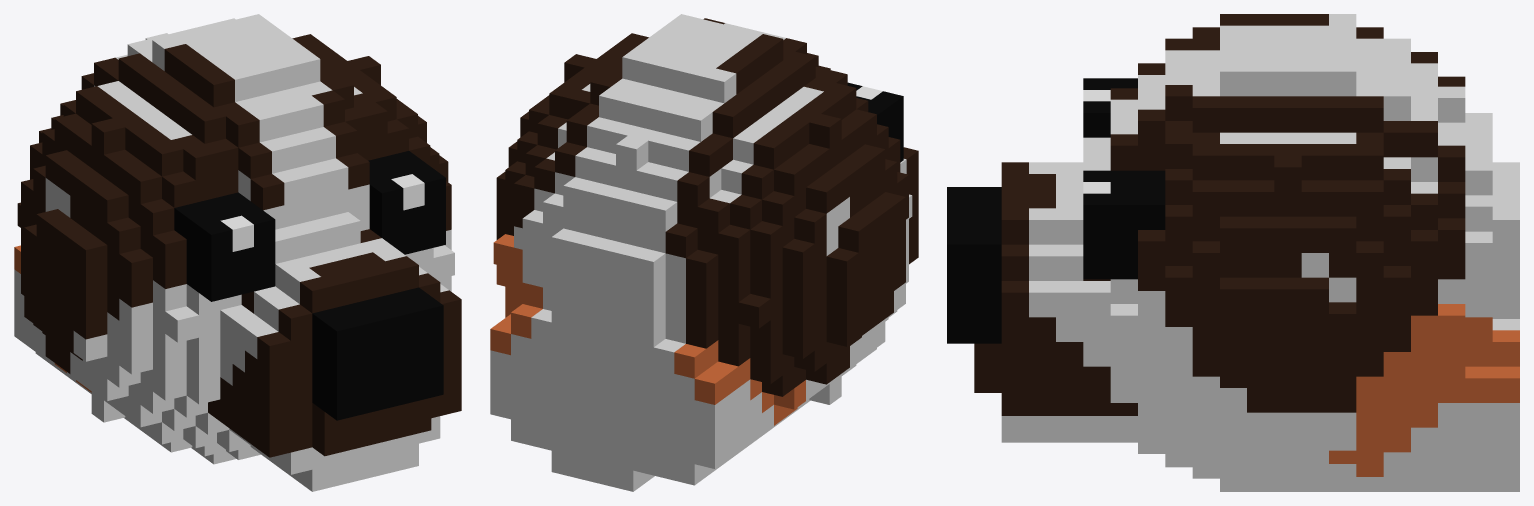
Rendered from Bernard_Head.obj.
3 renders of one model, left to right at view 1: azimuth 30°, elevation 25°; view 2: azimuth 150°, elevation 25°; view 3: azimuth 270°, elevation 25°, orthographic. The views are drawn at different scales.
Visible parts, largest first — view 1: Bernard; view 2: Bernard; view 3: Bernard.
Part boxes in pixels (x1=…): Bernard: x1=14, y1=14, x2=461, y2=491; Bernard: x1=490, y1=14, x2=918, y2=491; Bernard: x1=947, y1=14, x2=1519, y2=491.
Bounding box in the file's own units: 1.7 × 1.7 × 2.1.
1 material, 1 textured.
